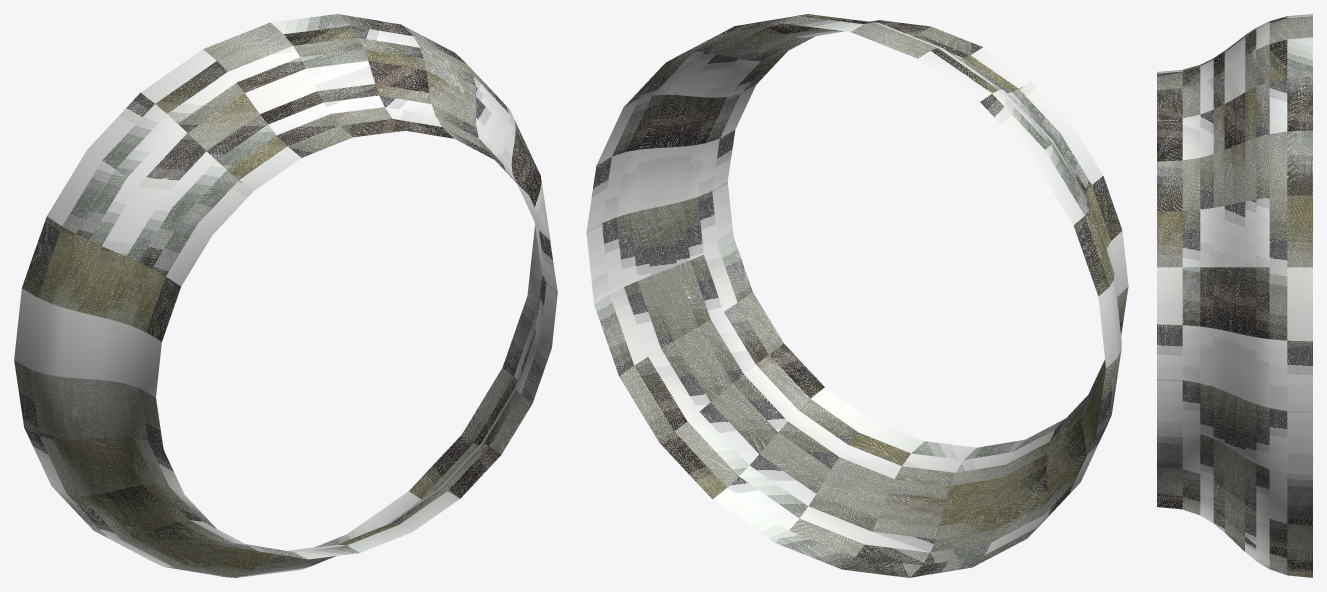
Rendered from original-1.obj.
3 renders of one model, left to right at view 1: azimuth 30°, elevation 25°; view 2: azimuth 150°, elevation 25°; view 3: azimuth 270°, elevation 25°, orthographic. The views are drawn at different scales.
Visible parts, largest first — view 1: Group1/mesh1/mesh1-geometry#mesh1-geometry; view 2: Group1/mesh1/mesh1-geometry#mesh1-geometry; view 3: Group1/mesh1/mesh1-geometry#mesh1-geometry.
Part boxes in pixels (left/top/right/bottom): Group1/mesh1/mesh1-geometry#mesh1-geometry: left=14, top=14, right=557, bottom=577; Group1/mesh1/mesh1-geometry#mesh1-geometry: left=586, top=14, right=1128, bottom=577; Group1/mesh1/mesh1-geometry#mesh1-geometry: left=1157, top=14, right=1312, bottom=577.
Bounding box in the file's own units: 0.3479 × 0.3452 × 0.095.
